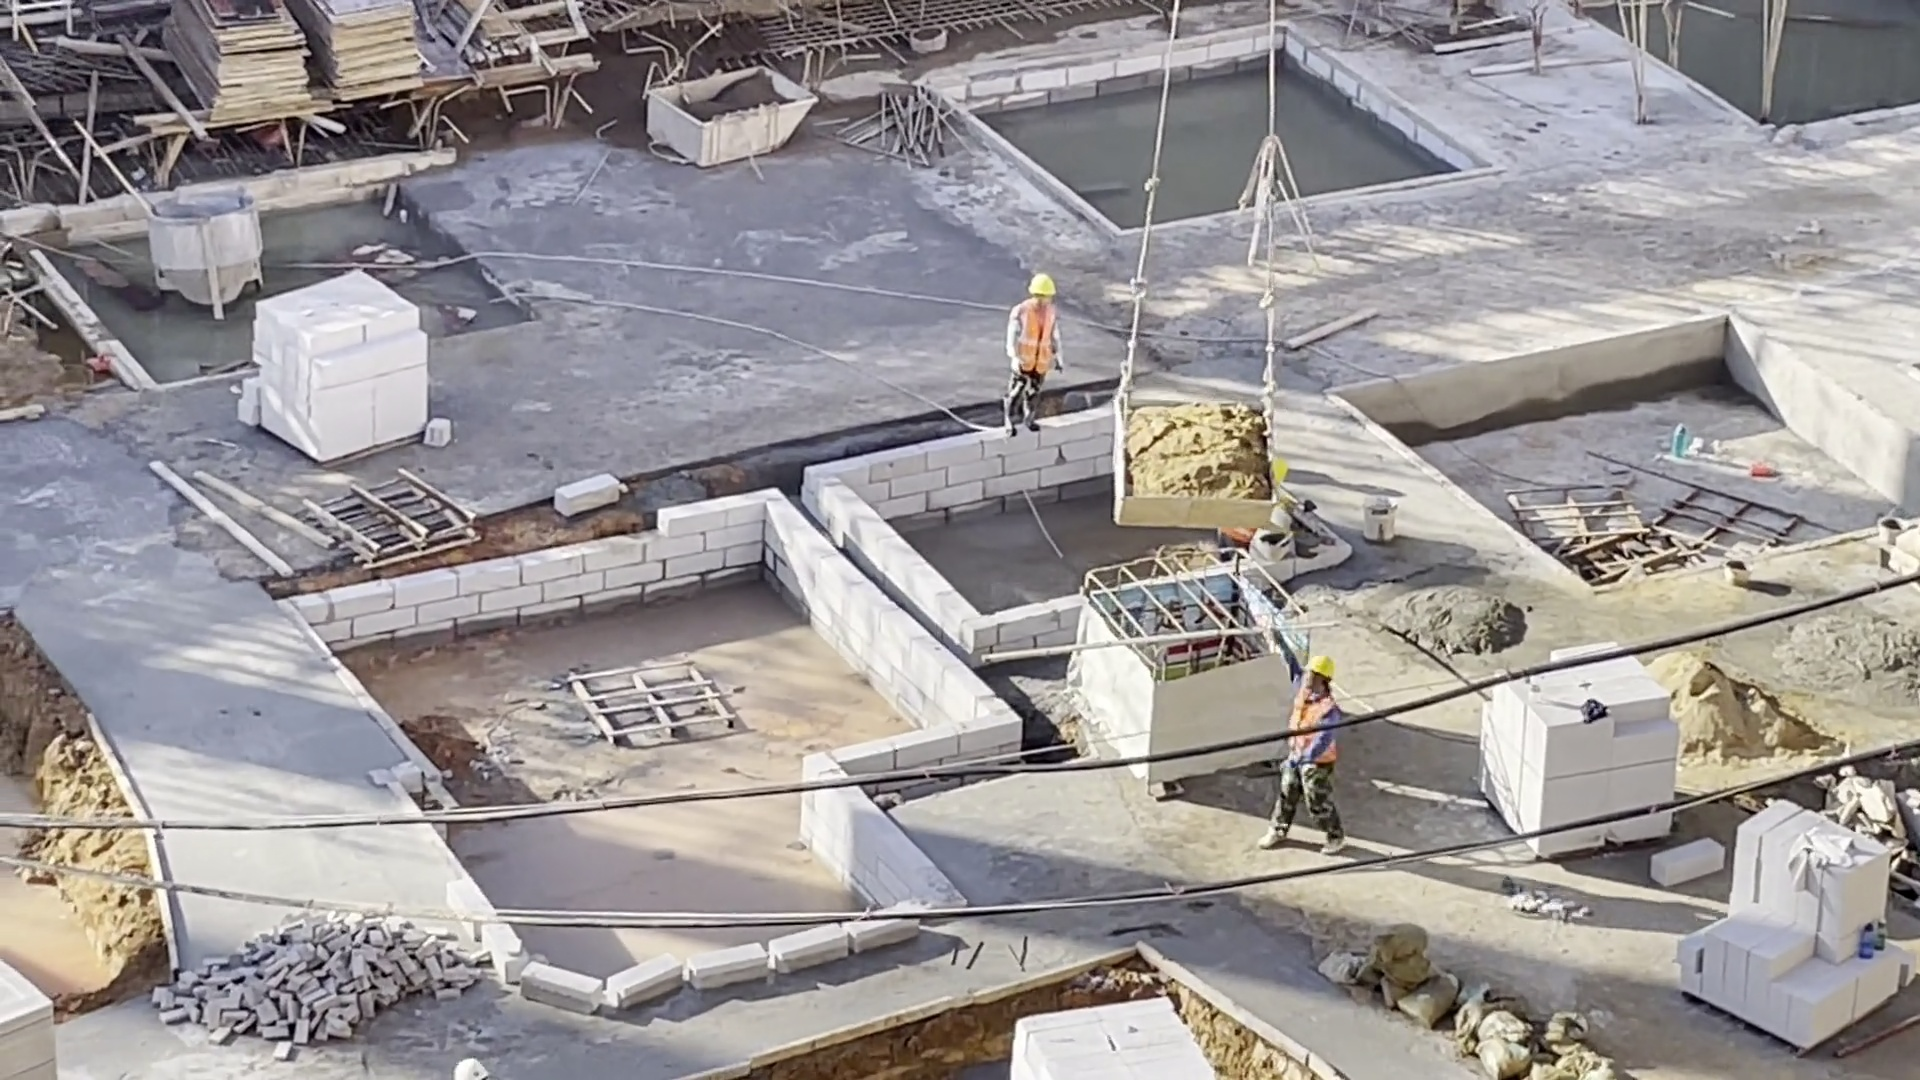board: (158, 6, 317, 132), (300, 2, 429, 105)
brick: (1647, 794, 1920, 1052), (234, 265, 450, 468), (1467, 686, 1682, 805), (1010, 993, 1215, 1080)
helmet: (1023, 271, 1059, 302), (1305, 654, 1338, 680)
hopper: (1106, 409, 1278, 532), (144, 187, 270, 323), (643, 63, 819, 160)
person: (1258, 653, 1354, 858), (997, 271, 1069, 439)
vest: (1011, 298, 1059, 376), (1284, 684, 1334, 724)
